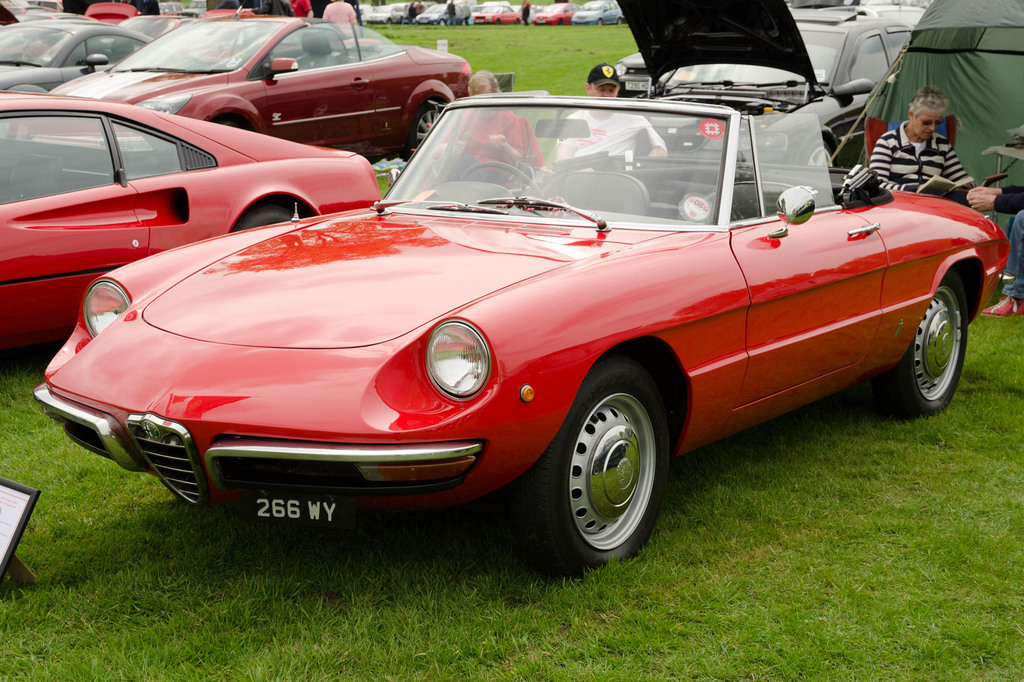Car: (31, 97, 1011, 567), (0, 90, 391, 345), (48, 0, 481, 158), (625, 11, 918, 166), (0, 19, 162, 90), (414, 1, 473, 28), (573, 0, 629, 24), (472, 0, 523, 25), (533, 1, 583, 23)
